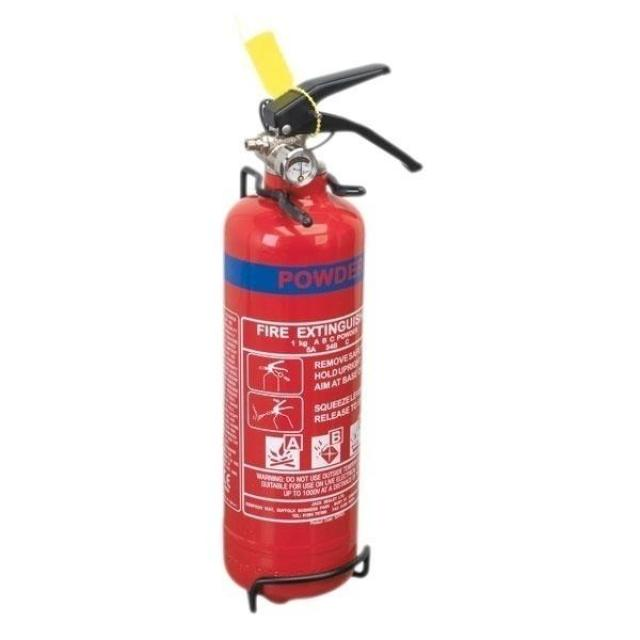fire_extinguisher: (214, 19, 425, 604)
